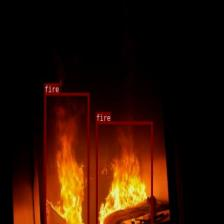fire: (44, 92, 89, 224), (95, 121, 152, 224)
